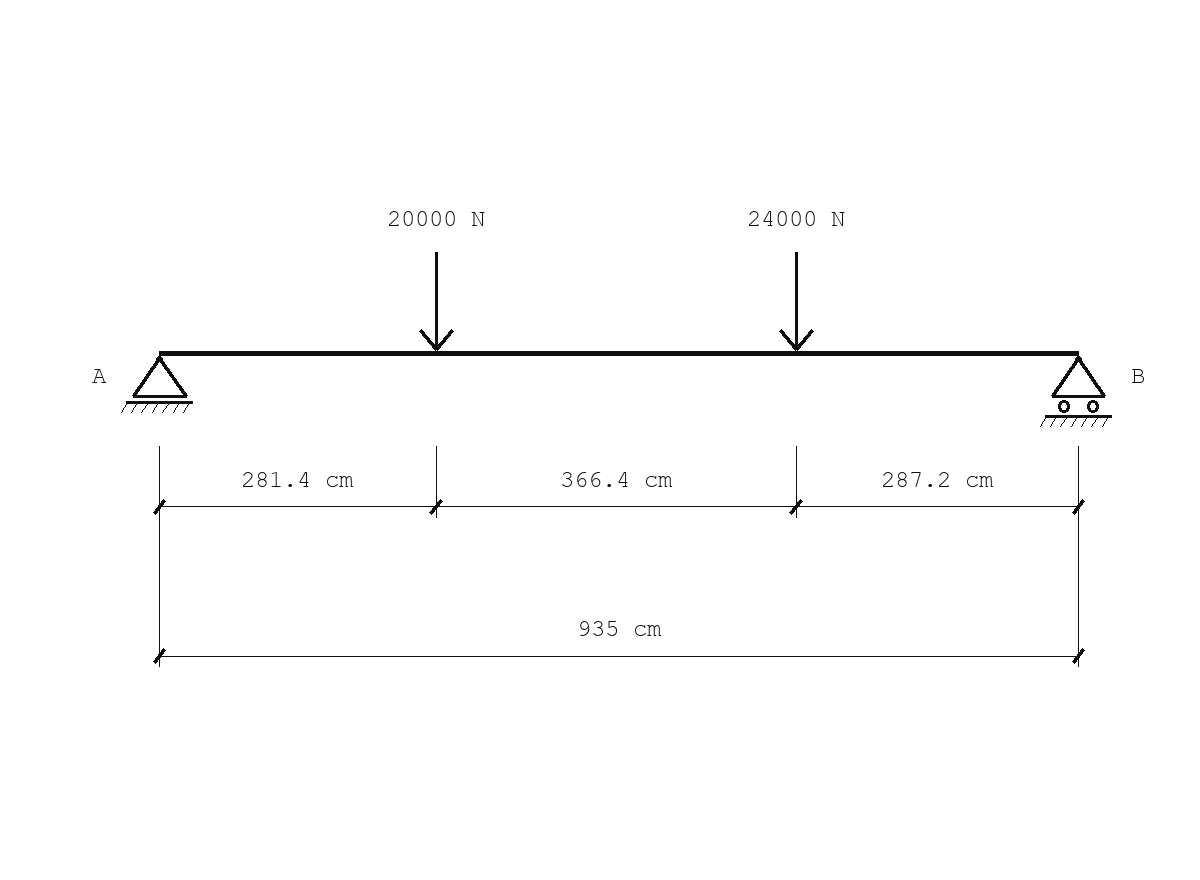pin_support: (121, 356, 193, 413)
point_load: (419, 252, 454, 351), (779, 252, 814, 351)
roller_support: (1040, 356, 1112, 427)
